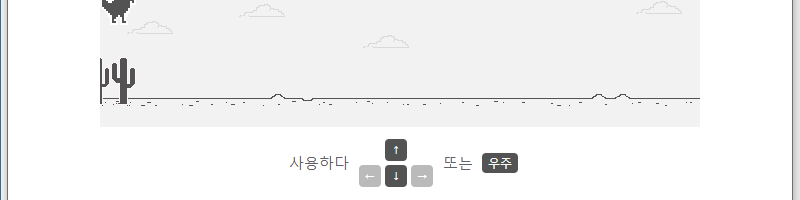dinosaur: (100, 1, 136, 23)
obstacle: (99, 57, 142, 106)
